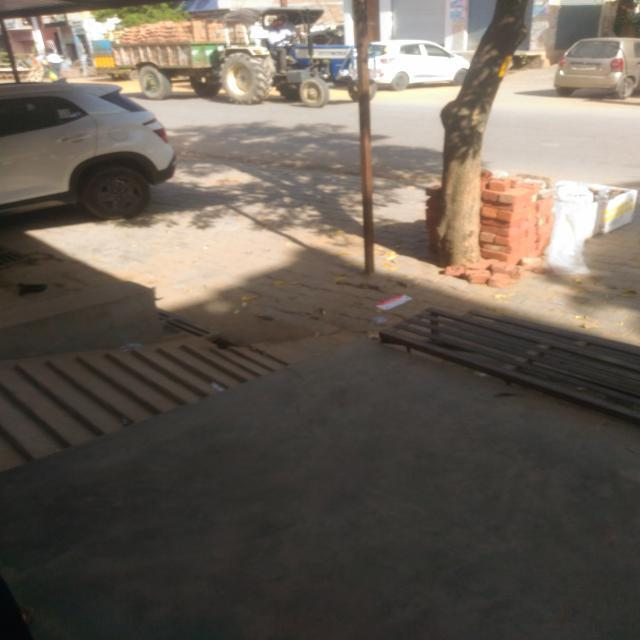car_back: (348, 36, 488, 90), (545, 26, 640, 103)
tractor_front: (105, 0, 388, 112)
